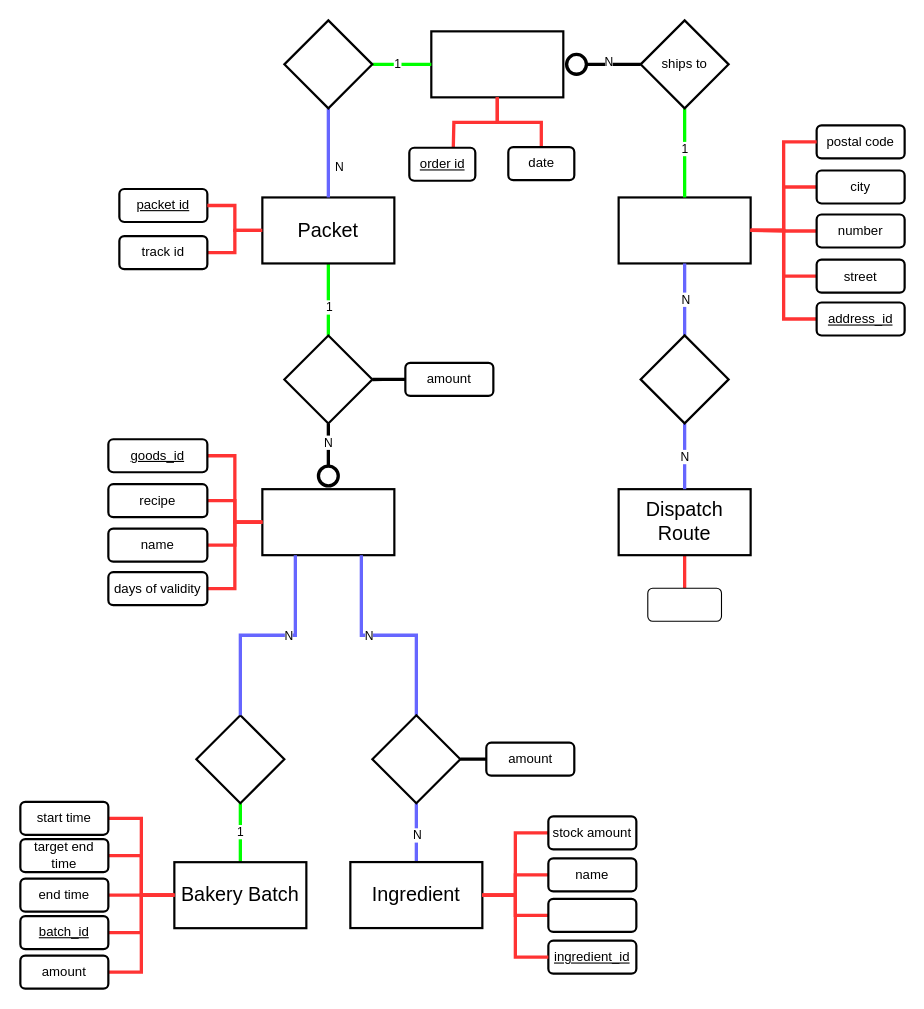
This 924x1009 diagram has some shape labels left out. The shapes that lost their labels are listed below. From the top down, each one's centre as x and y in pixels, then its label:
point (328, 64): Contains
point (497, 64): Order
point (684, 230): Address
point (328, 379): has
point (684, 379): visits
point (328, 522): Baking Good
point (684, 604): dispatch id
point (240, 759): consists of
point (416, 759): is made of
point (592, 914): unit
